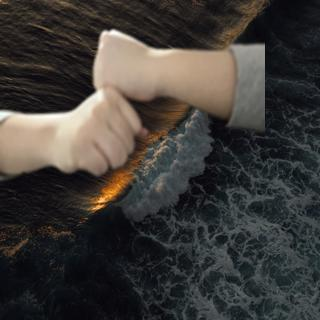CAREFUL: (6, 29, 246, 176)
